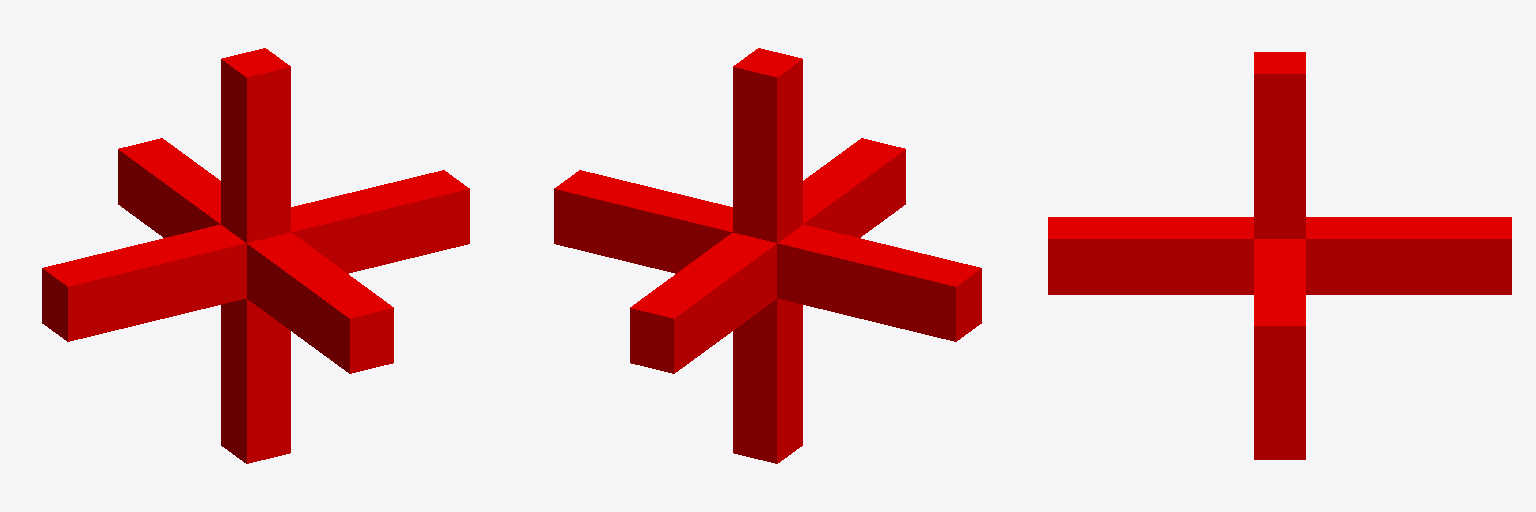
Rendered from cross.obj.
3 views of the same model, side by side, from view 1: azimuth 30°, elevation 25°; view 2: azimuth 150°, elevation 25°; view 3: azimuth 270°, elevation 25° (orthographic).
Visible parts, largest first — view 1: Curve_Mesh; view 2: Curve_Mesh; view 3: Curve_Mesh.
Part boxes in pixels (bbox=[...]): Curve_Mesh: bbox=[42, 48, 469, 463]; Curve_Mesh: bbox=[554, 48, 981, 463]; Curve_Mesh: bbox=[1048, 52, 1511, 459].
Bounding box in the file's own units: 0.762 × 0.7 × 0.7619.